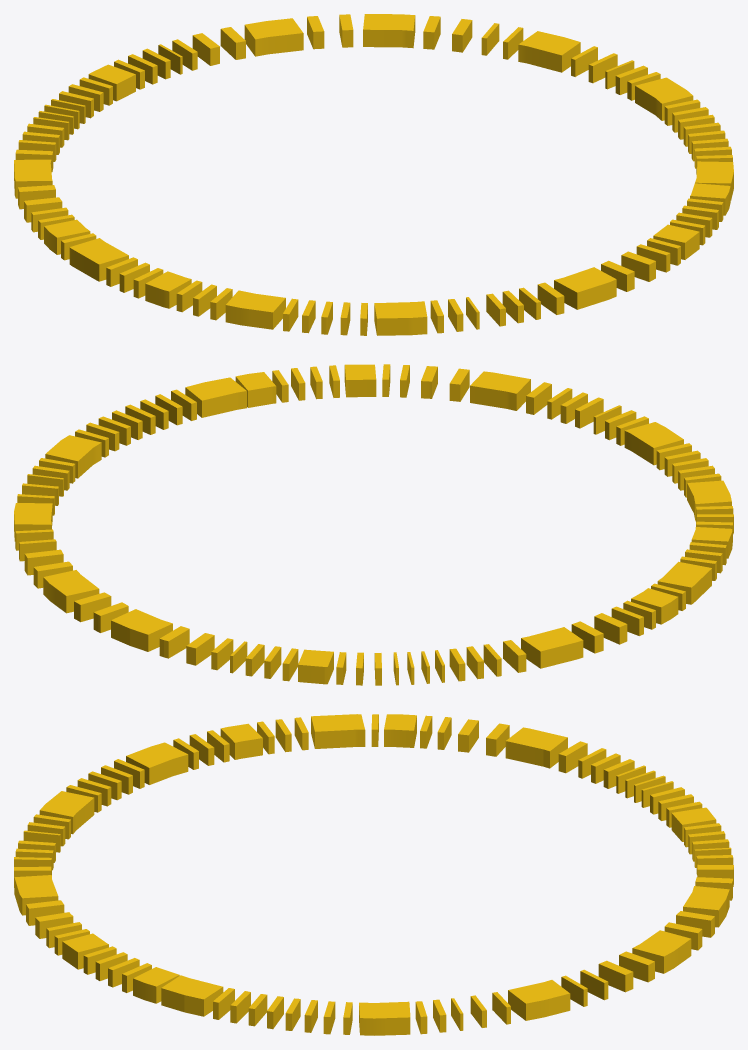
The model's file is Arc Animation V004B (rotation only) - Outer.glb.
3 views of the same model, one above another, from view 1: azimuth 30°, elevation 25°; view 2: azimuth 150°, elevation 25°; view 3: azimuth 270°, elevation 25° (orthographic).
Visible parts, largest first — view 1: Arc_Outer_Ring; view 2: Arc_Outer_Ring; view 3: Arc_Outer_Ring.
Part boxes in pixels (x1,y1,x2,y2): Arc_Outer_Ring: [14, 14, 733, 335]; Arc_Outer_Ring: [14, 364, 733, 685]; Arc_Outer_Ring: [14, 714, 733, 1035].
Size of the model in its own units: 19.25 by 0.5098 by 19.24.
